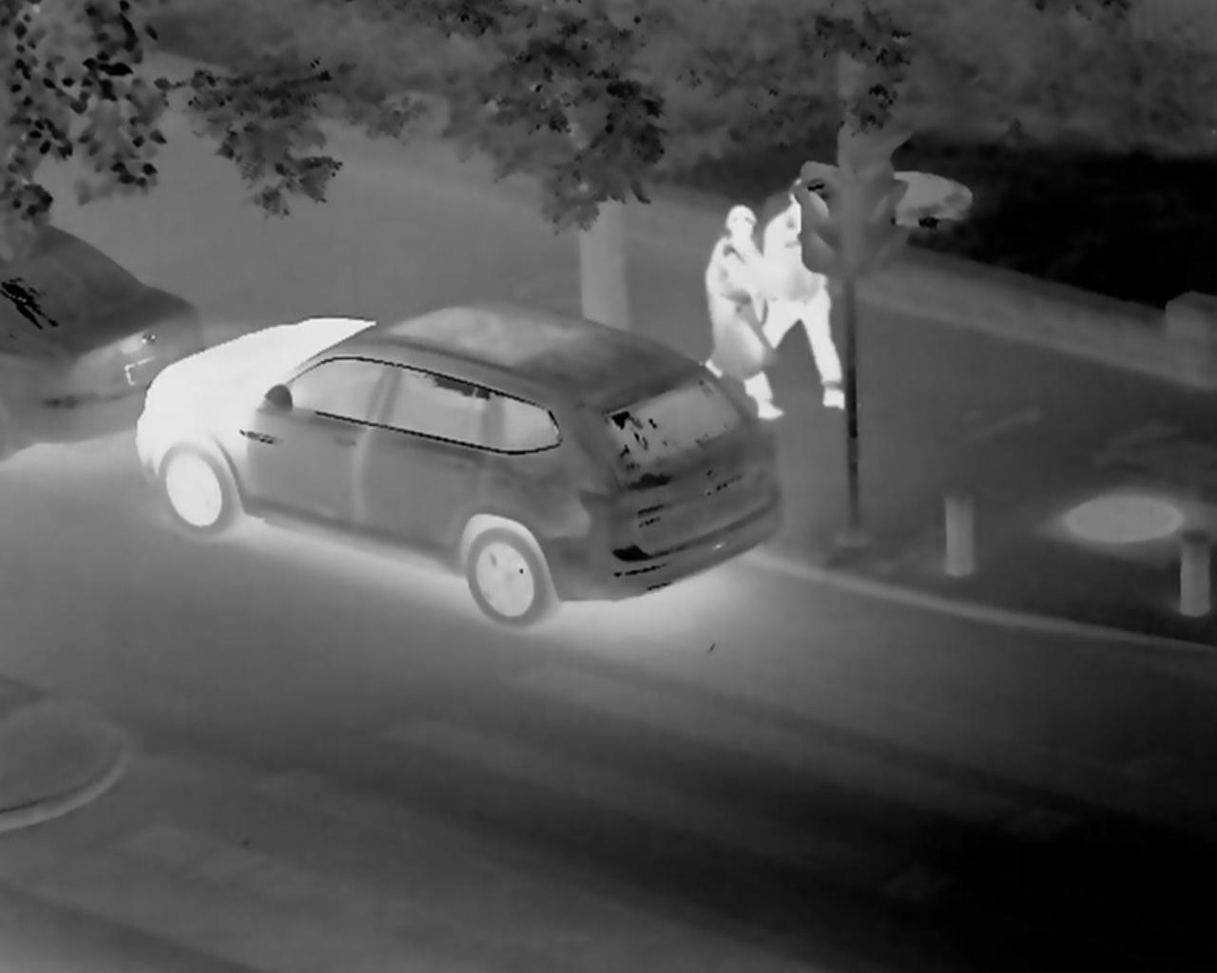person: (775, 181, 840, 463), (699, 200, 768, 441)
